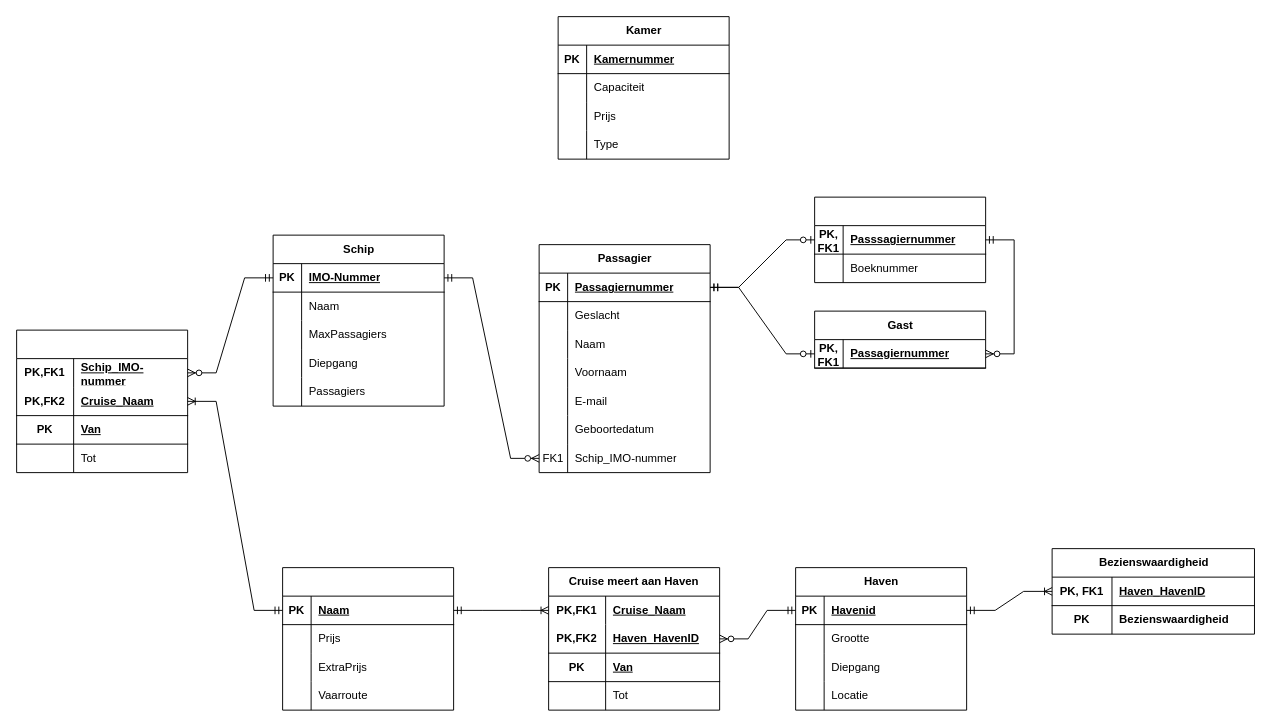
Some shapes in this 1271 by 727 pixel diagram are drawn without their labels. Here are the shapes that lost their labels. From the top down, the box of each, then its label:
(814, 196, 986, 283): Hoofdboeker
(16, 329, 188, 473): Schip maakt Cruise
(282, 567, 454, 710): Cruise
